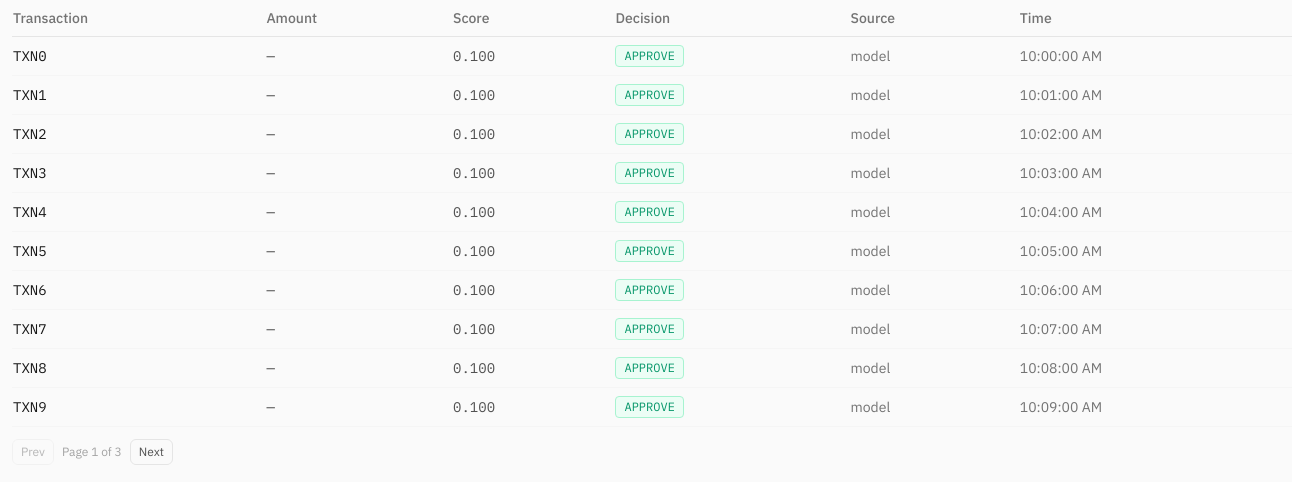
Scenario: DataTable pagination › advances to the next page on click
Click the button "Next". click: (151, 452)
box: [130, 439, 173, 465]
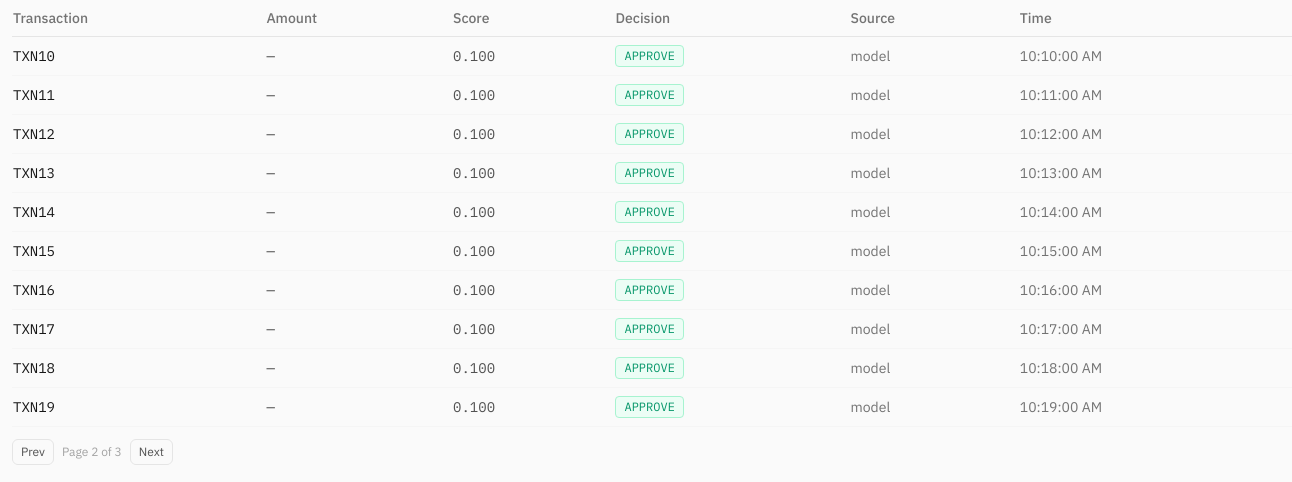
expect the text "TXN10" is shown: met, box [12, 36, 265, 76]
expect the text "TXN0" is gone: met
